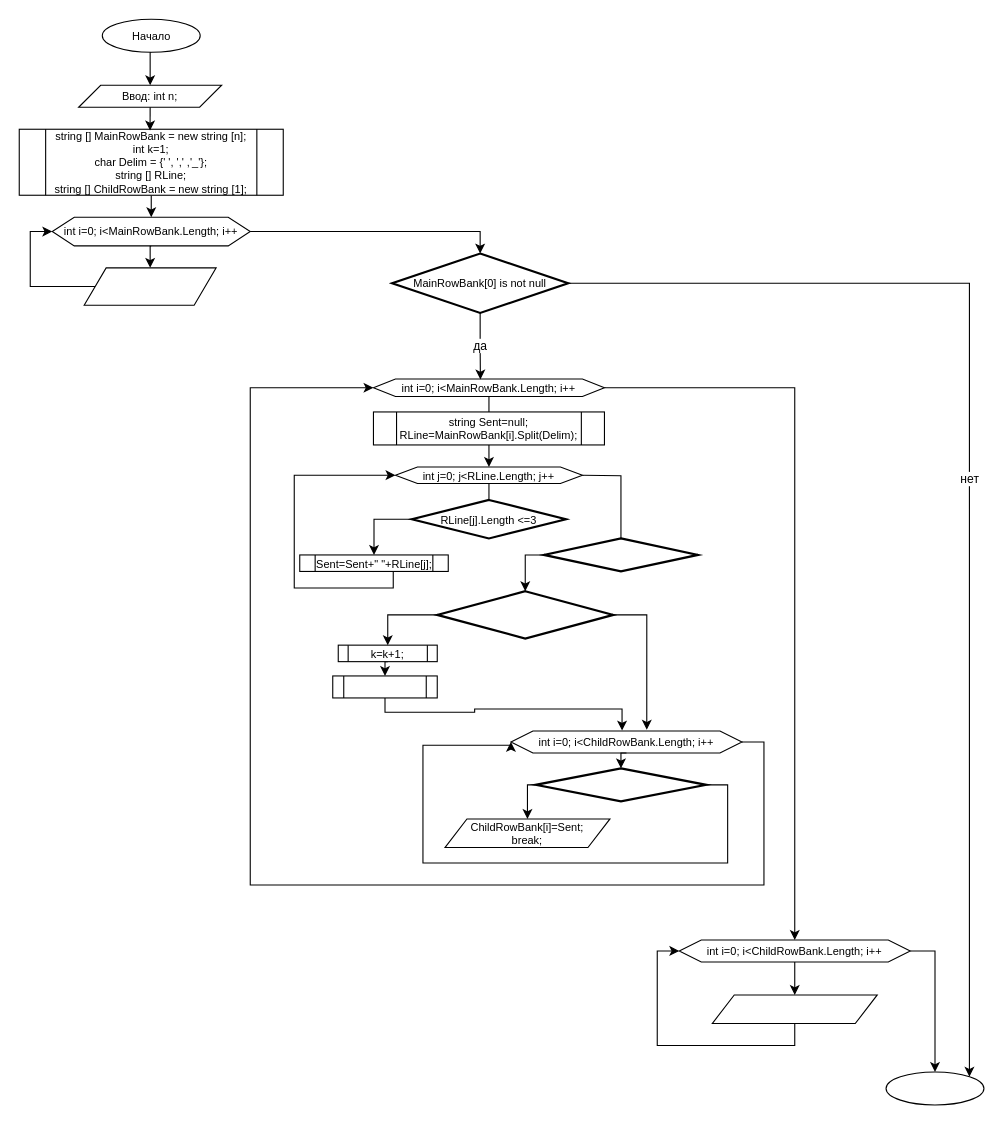
Image size: 1003x1124. Some labels were removed from this diagram. The shapes that lost their labels are listed below. From the top down, each one's box as (x1, y1, x2, y2) in pixels, then its label:
(83, 267, 216, 305): Ввод MainRowBank[i]
(542, 537, 698, 572): Sent != null
(436, 590, 614, 639): ChildRowBank [0] !=null
(332, 675, 437, 698): Array.Resize(ref ChildRowBank,k) ;
(534, 767, 707, 802): ChildRowBank[i]=null
(711, 994, 877, 1024): Вывод ChildRowBank[i];
(885, 1071, 984, 1105): Конец
